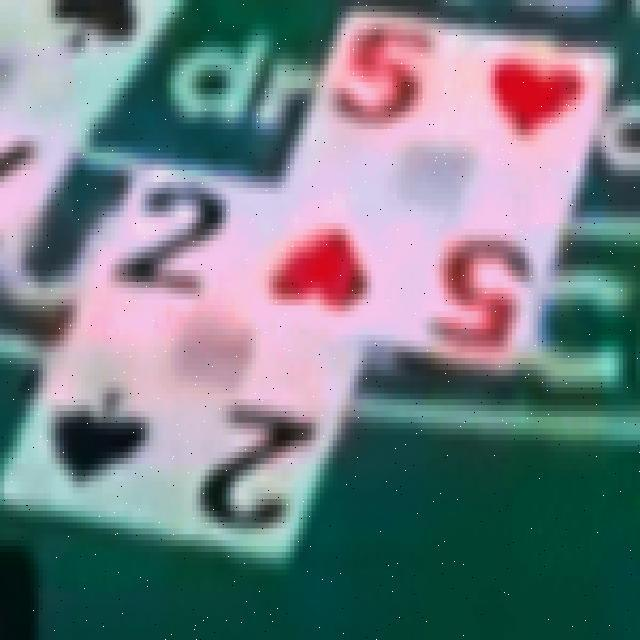Card-2: (4, 161, 362, 561)
Card-5: (243, 10, 615, 372)
